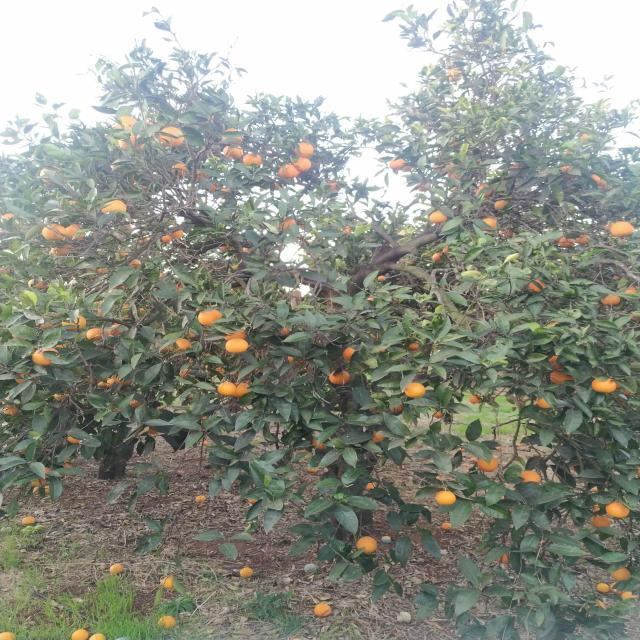Jeruk Sudah Matang: (400, 382, 430, 399), (160, 127, 184, 147), (32, 348, 58, 366), (197, 310, 226, 326), (224, 337, 248, 355), (120, 132, 144, 150), (606, 501, 630, 519), (590, 378, 616, 394), (63, 224, 87, 240), (42, 223, 64, 240), (329, 372, 352, 388), (518, 470, 542, 485), (358, 536, 378, 554), (550, 370, 574, 385), (41, 167, 62, 184), (102, 200, 126, 214), (223, 129, 244, 145), (610, 222, 634, 236), (477, 457, 499, 472), (294, 142, 314, 158), (114, 116, 136, 130), (590, 514, 612, 528), (610, 568, 632, 582), (61, 316, 85, 328), (224, 145, 243, 160), (278, 164, 298, 178), (218, 382, 236, 397), (294, 158, 313, 172), (50, 244, 72, 256), (172, 163, 188, 178), (242, 154, 262, 166), (436, 492, 456, 504), (236, 382, 251, 398), (600, 294, 620, 306), (172, 339, 190, 352), (16, 371, 34, 384), (279, 217, 295, 231), (530, 279, 546, 293), (546, 356, 562, 370), (430, 212, 448, 224), (313, 438, 331, 450), (482, 218, 498, 231), (315, 603, 331, 616), (592, 175, 609, 186), (609, 582, 624, 594), (86, 328, 102, 339), (3, 406, 20, 416), (370, 430, 384, 442), (110, 324, 124, 336), (326, 182, 341, 193), (28, 279, 44, 289), (560, 238, 576, 248), (536, 398, 552, 408), (337, 226, 353, 236), (391, 158, 404, 170), (343, 347, 355, 360), (240, 567, 254, 578), (476, 186, 491, 196), (575, 234, 591, 243), (498, 552, 510, 564), (114, 376, 132, 384), (61, 463, 72, 476), (562, 166, 572, 180), (578, 134, 592, 144), (288, 356, 305, 364), (195, 170, 208, 180), (417, 182, 430, 192), (171, 230, 184, 240), (621, 592, 637, 600), (494, 200, 506, 210), (128, 258, 140, 268), (220, 188, 232, 198), (445, 164, 457, 174), (128, 399, 141, 408), (55, 392, 69, 400), (66, 436, 80, 444), (158, 344, 172, 352), (508, 166, 522, 174), (450, 140, 460, 150), (432, 253, 443, 262), (597, 584, 609, 592), (32, 478, 44, 486), (400, 164, 412, 172), (469, 396, 482, 403), (3, 212, 14, 220), (160, 236, 170, 244), (104, 379, 114, 387), (180, 369, 190, 377), (280, 328, 290, 336), (450, 172, 460, 180), (390, 406, 403, 412), (44, 468, 52, 477), (208, 184, 217, 192), (220, 246, 232, 252), (432, 411, 442, 418), (409, 343, 419, 350), (44, 486, 52, 494), (215, 368, 225, 374), (442, 523, 450, 530), (243, 247, 251, 254), (377, 276, 387, 281), (33, 486, 39, 494)
